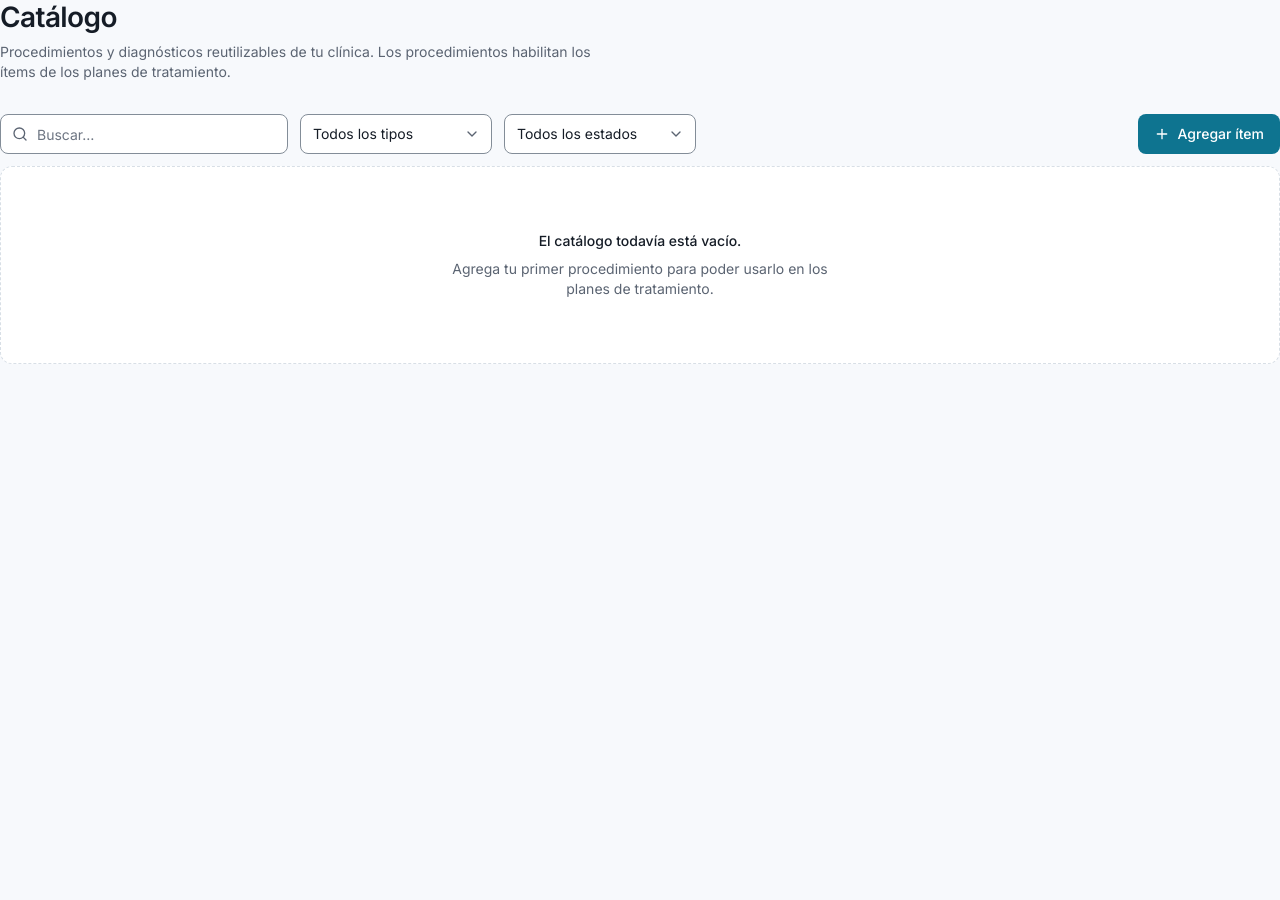
Test: CatalogView › crear un ítem manda el payload correcto y recarga
Expected: the text "El catálogo todavía está vacío." is shown, left=539, top=231, right=741, bottom=251
Click the button "Agregar ítem" at (1209, 134), box left=1138, top=114, right=1279, bottom=154
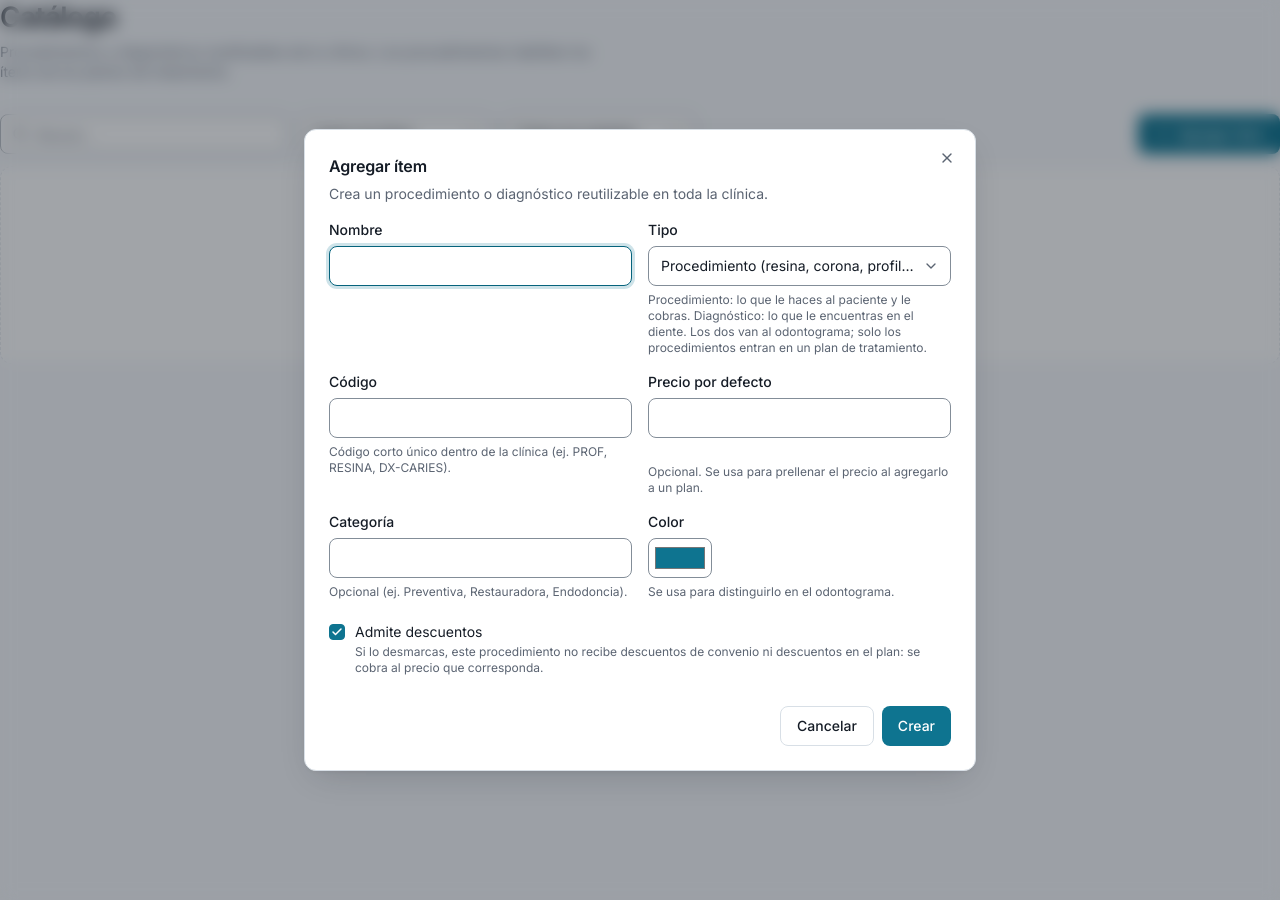
Type "Profilaxis" into the field labelled "Nombre" at (480, 266), box left=329, top=246, right=632, bottom=286
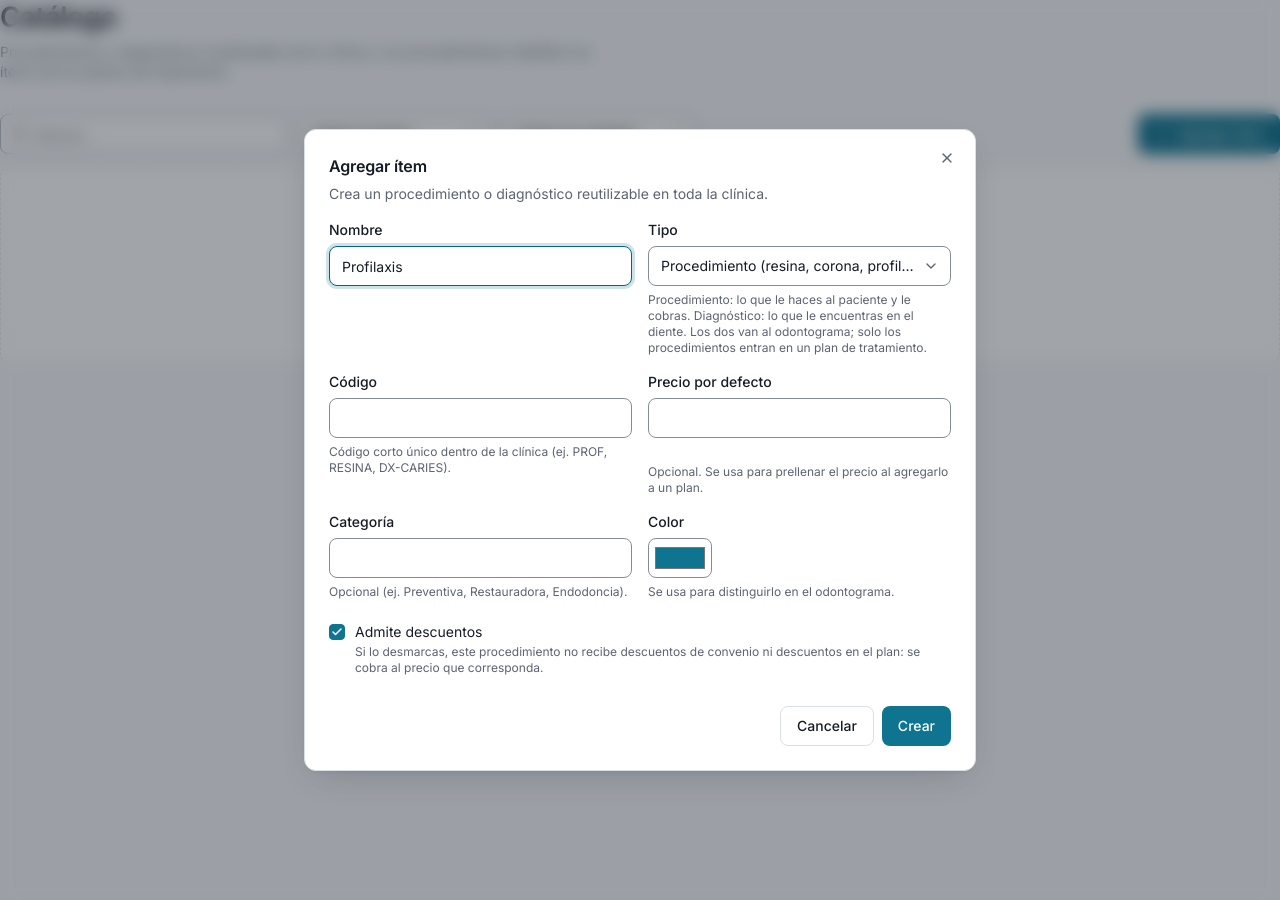
Type "PROF" into the field labelled "Código" at (480, 418), box left=329, top=398, right=632, bottom=438
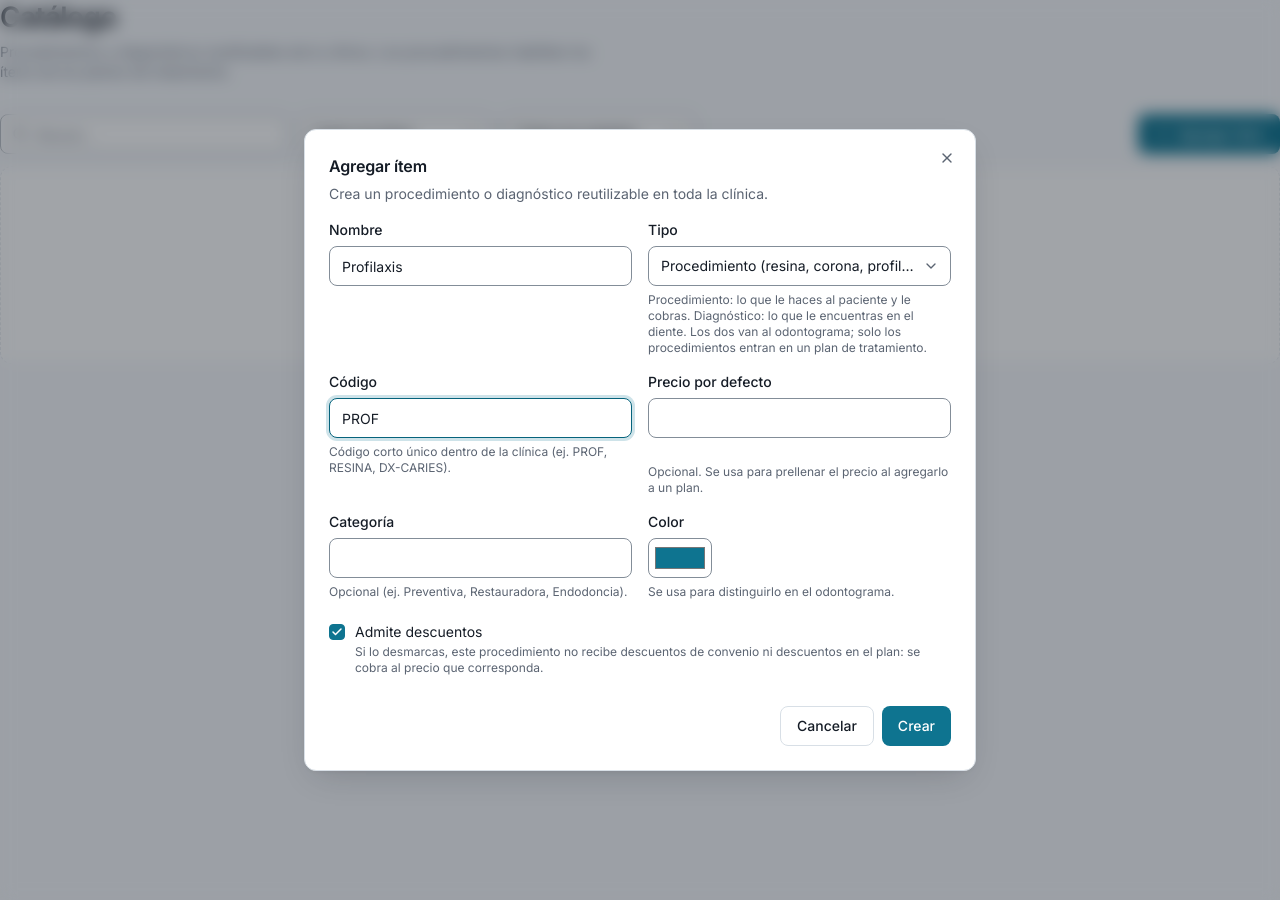
Type "80000" into the field labelled "Precio por defecto" at (800, 418), box left=648, top=398, right=951, bottom=438
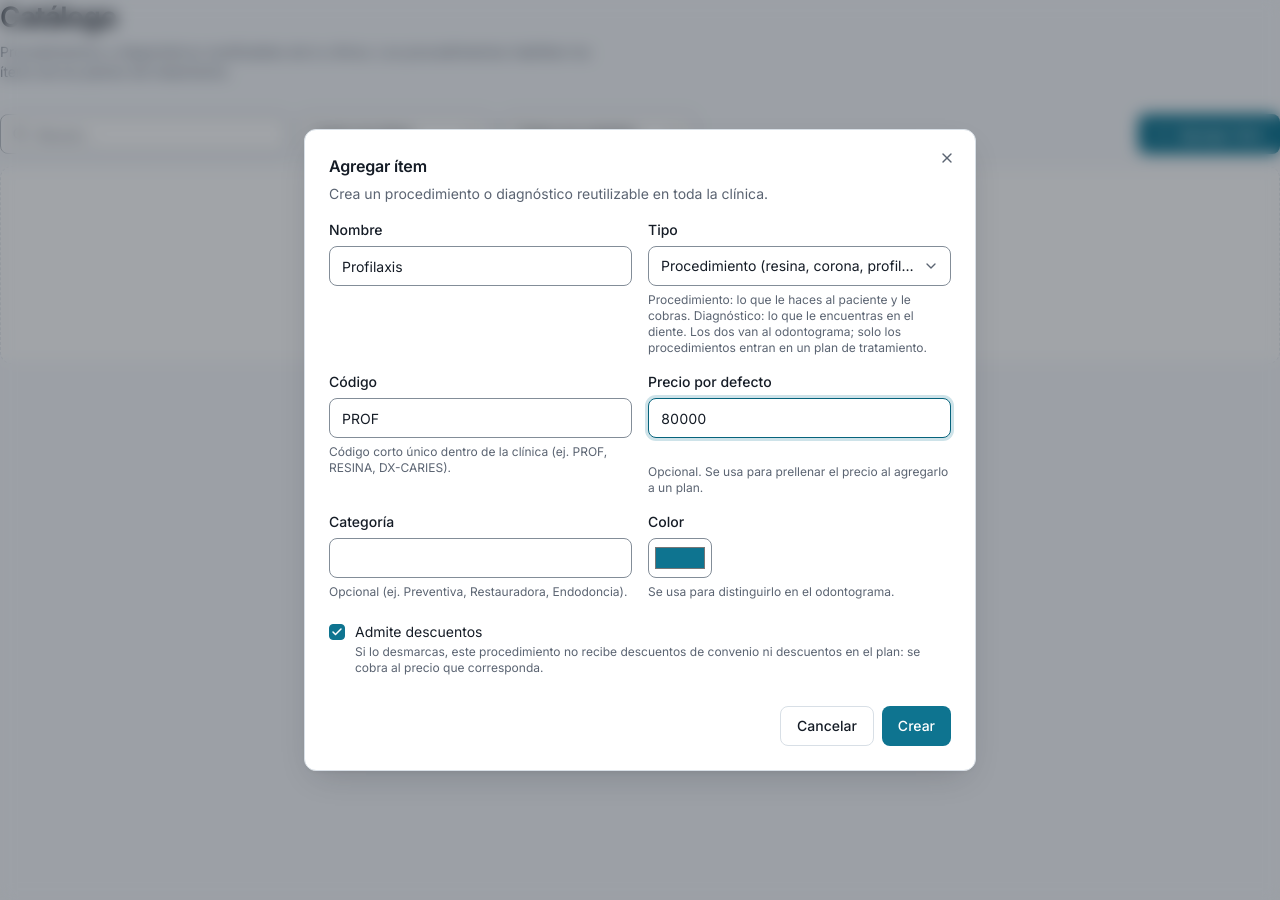
Click the button "Crear" at (916, 726), box left=882, top=706, right=951, bottom=746
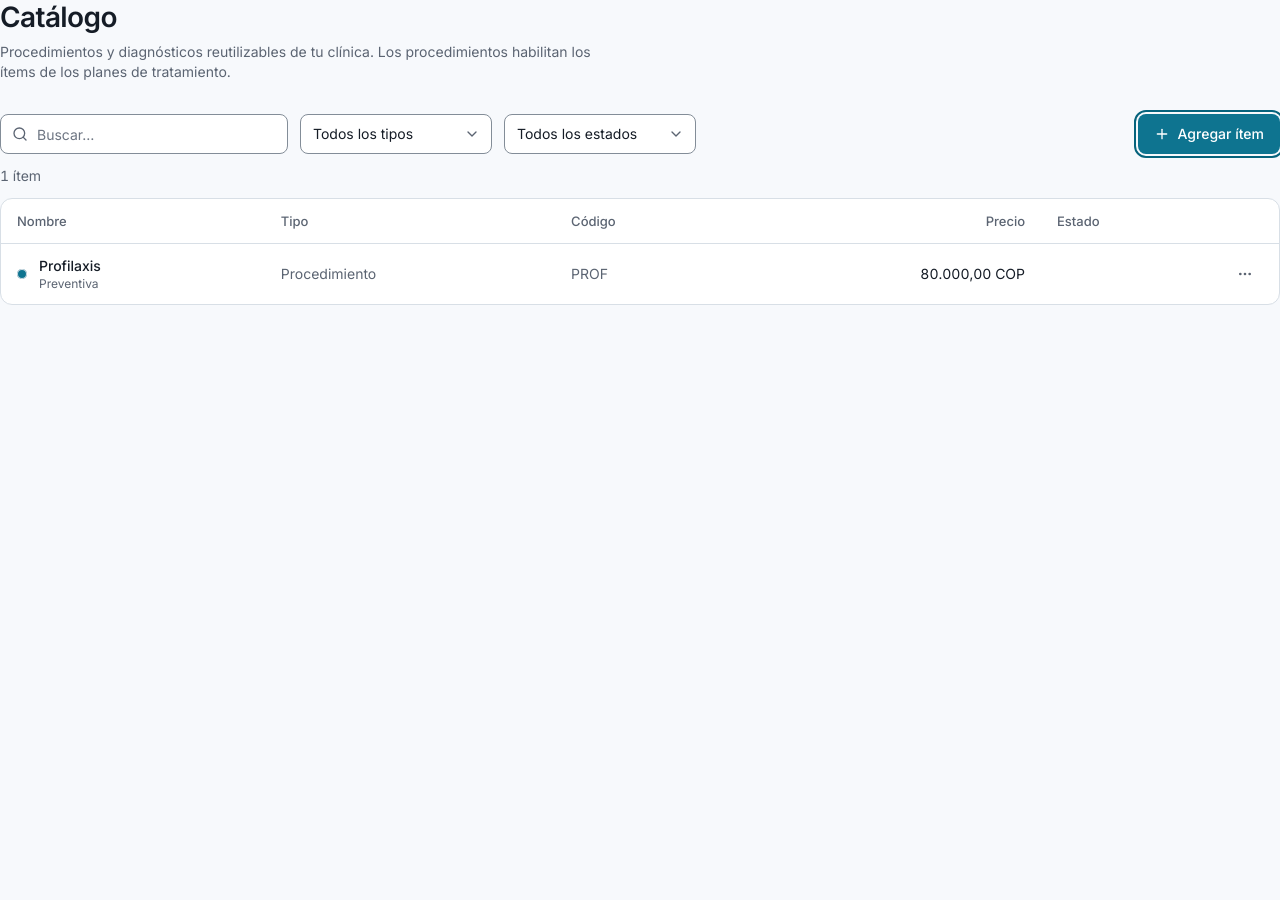
Now the text "Profilaxis" is shown, box left=39, top=256, right=101, bottom=274
